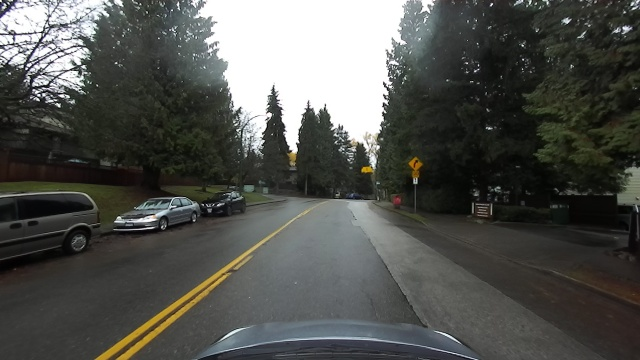car: (1, 189, 101, 267), (109, 193, 200, 236), (201, 189, 250, 215), (346, 191, 364, 199), (332, 191, 342, 199)
